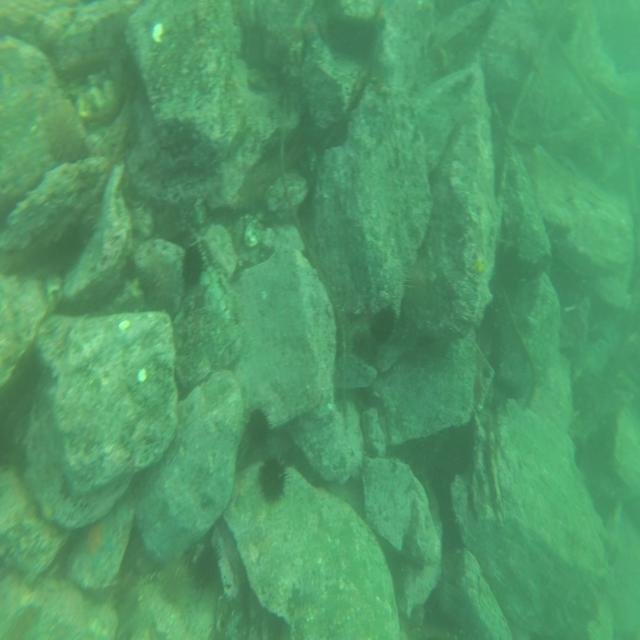echinus: (44, 107, 81, 166), (191, 538, 224, 596), (256, 449, 292, 502), (401, 257, 432, 316), (245, 403, 275, 457), (158, 551, 187, 605), (180, 240, 206, 294), (369, 303, 396, 349)
starfish: (82, 506, 117, 568), (300, 10, 324, 54)
